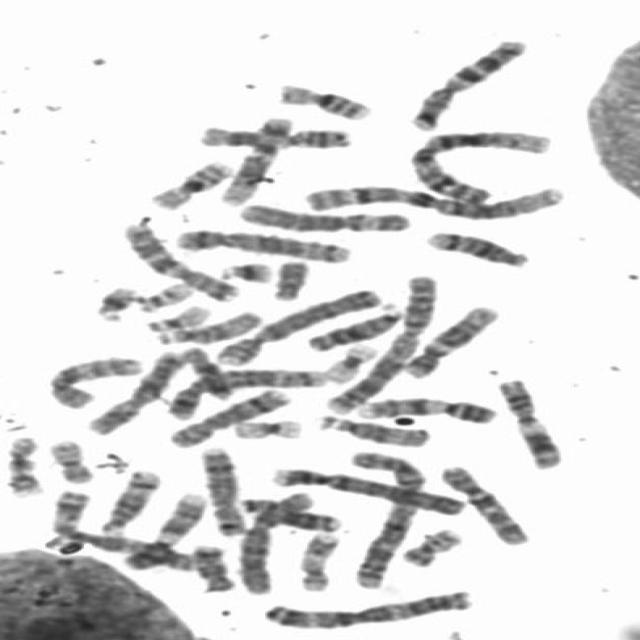A1: (402, 123, 560, 206), (296, 178, 569, 220)
A2: (318, 268, 442, 416), (339, 444, 430, 591)
A3: (44, 486, 204, 572), (256, 583, 478, 631)
B4: (210, 283, 388, 368), (262, 462, 472, 518)
B5: (162, 362, 331, 422), (166, 223, 354, 264)
C10: (432, 459, 534, 547), (41, 350, 146, 410)
C11: (490, 374, 567, 471), (192, 120, 357, 151)
C12: (398, 300, 504, 379), (212, 110, 296, 206)
C6: (233, 487, 320, 596), (233, 198, 415, 234)
C7: (402, 34, 534, 132), (113, 218, 241, 303)
C8: (162, 383, 292, 449), (192, 442, 249, 537)
C9: (118, 488, 210, 571), (349, 392, 501, 425)
D13: (302, 300, 409, 353), (233, 492, 344, 533)
D14: (94, 464, 165, 536), (419, 226, 533, 270)
D15: (147, 305, 267, 345), (312, 409, 435, 448)
E16: (142, 155, 238, 212), (270, 77, 375, 121)
E17: (289, 526, 343, 593), (0, 431, 48, 497)
E18: (176, 342, 239, 401), (186, 539, 239, 593)
F19: (318, 338, 382, 384), (225, 414, 307, 441)
F20: (394, 522, 466, 568), (42, 434, 99, 484)
G21: (87, 280, 141, 324), (214, 256, 276, 284)
G22: (139, 300, 215, 333), (131, 276, 197, 313)
X: (79, 346, 189, 436)
Y: (265, 255, 312, 302)
